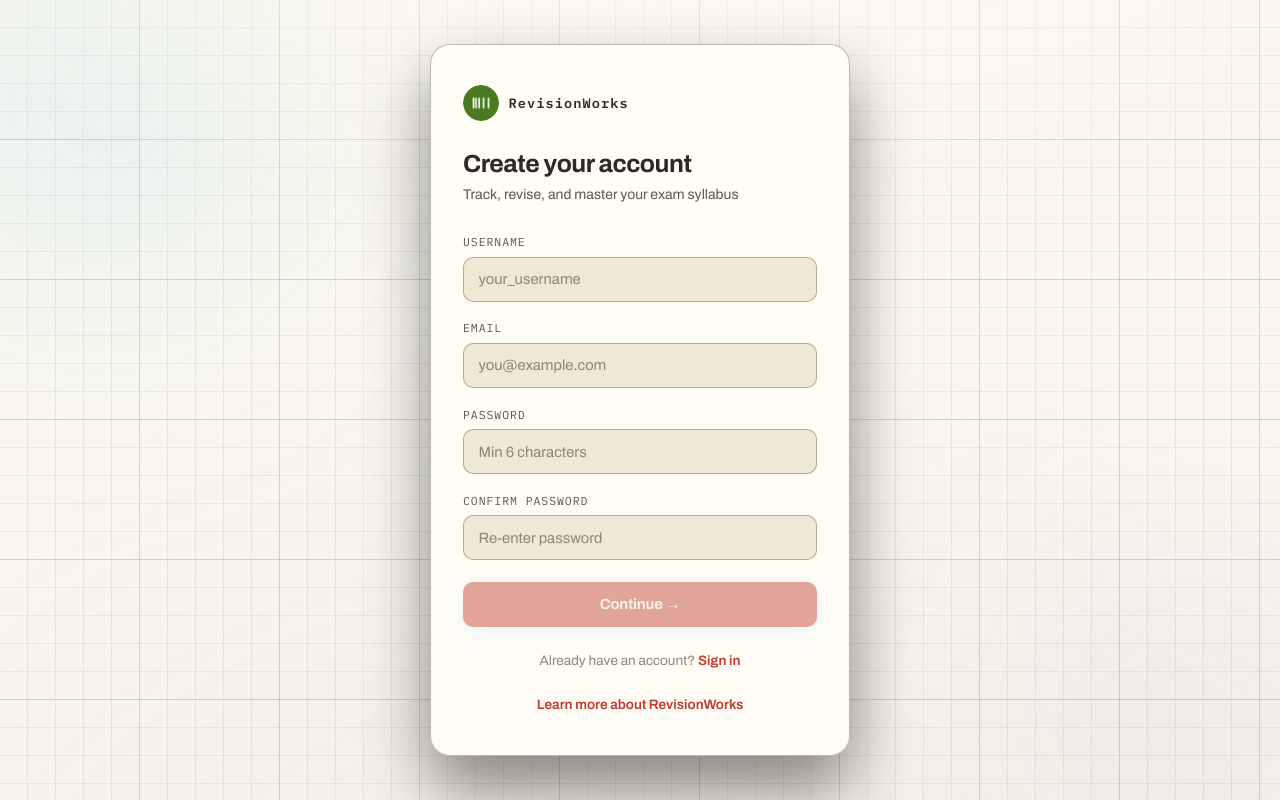
Test case: shows the check-your-email panel after successful registration
The width and height of the screenshot is (1280, 800).
Type "newuser" into the field labelled "Username" at (640, 279), box [463,257,817,302]
Type "newuser@example.com" into the field labelled "Email" at (640, 365), box [463,343,817,388]
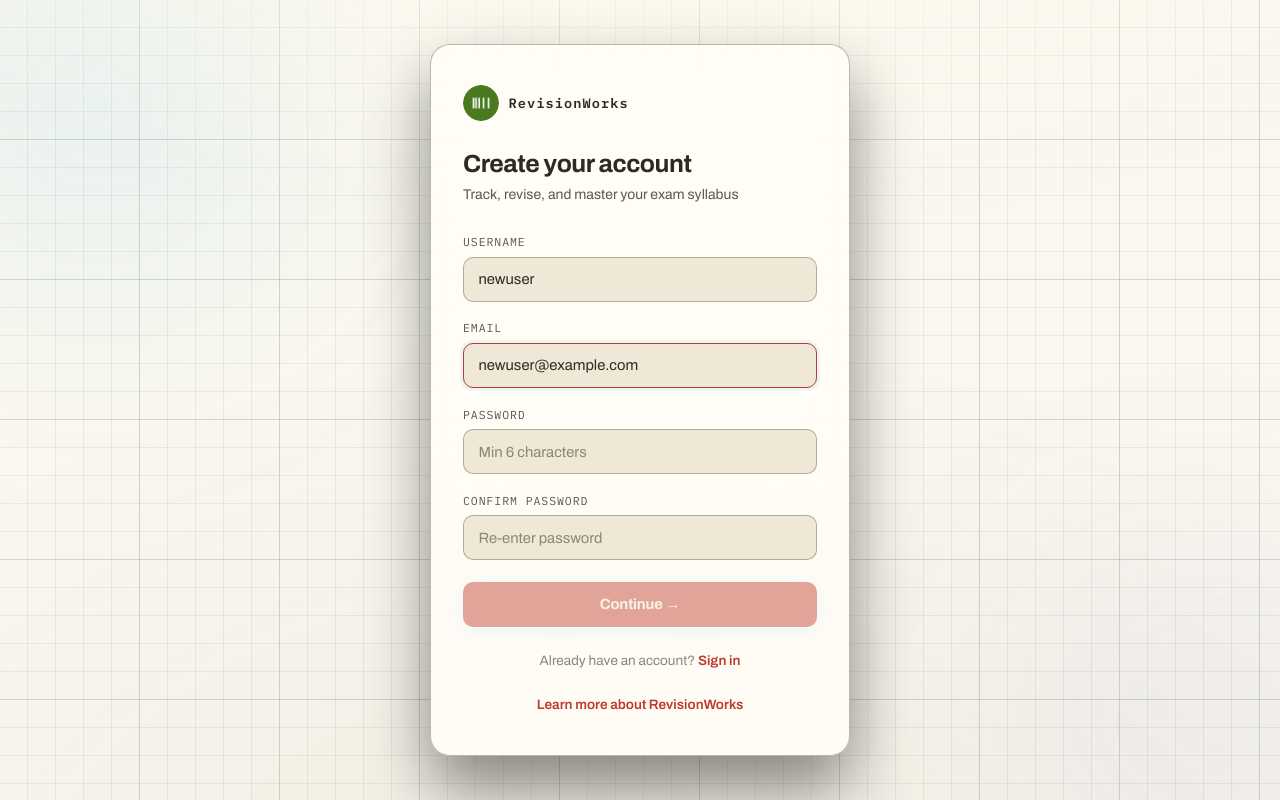
Type "password123" into the password field labelled "Password" at (640, 452), box [463,429,817,474]
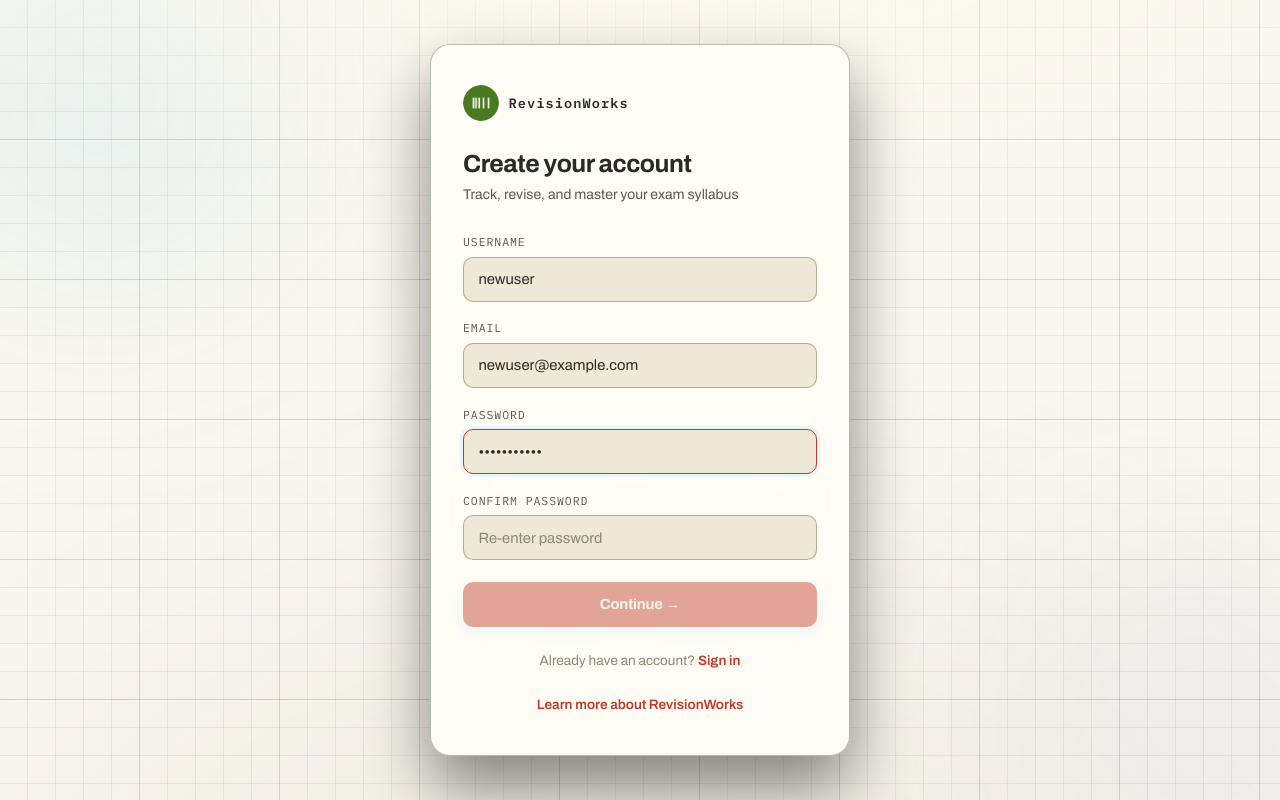
Type "password123" into the password field labelled "Confirm Password" at (640, 538), box [463,515,817,560]
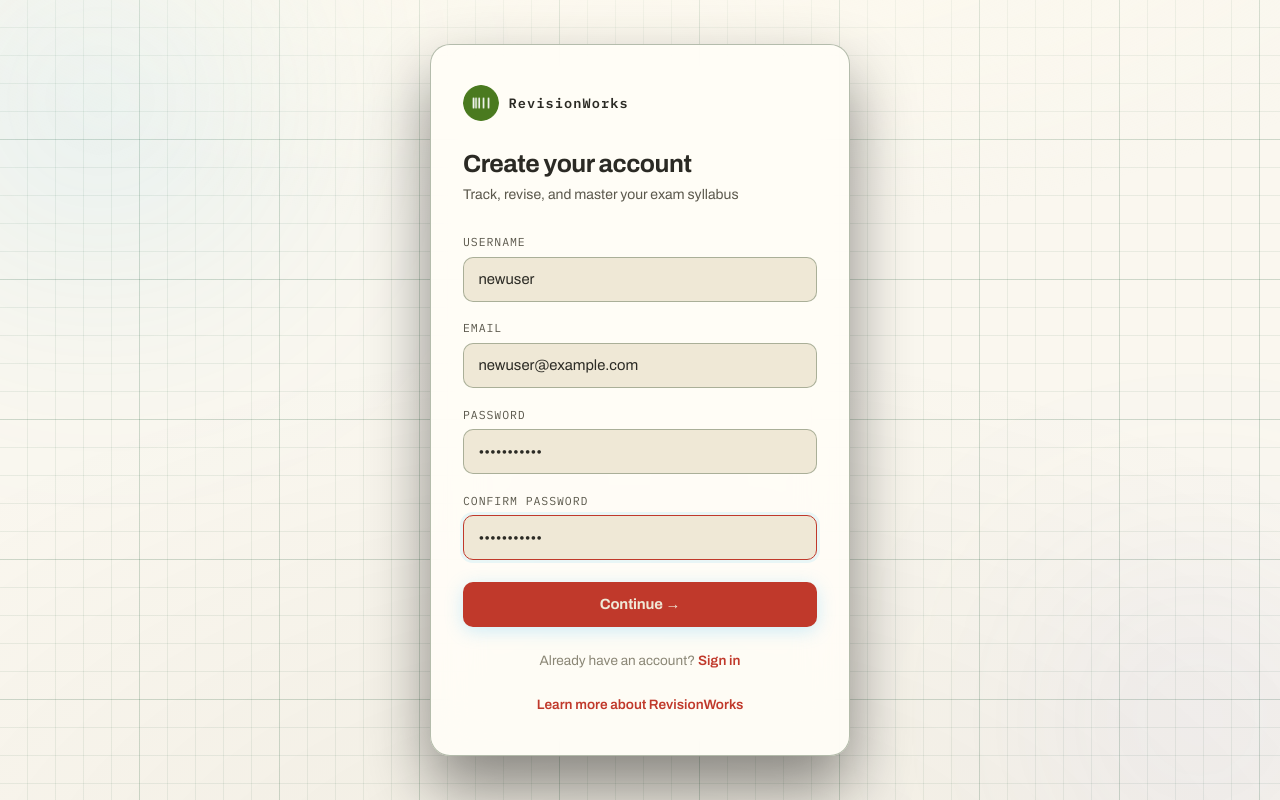
Click the button "Continue →" at (640, 604), box [463,582,817,626]
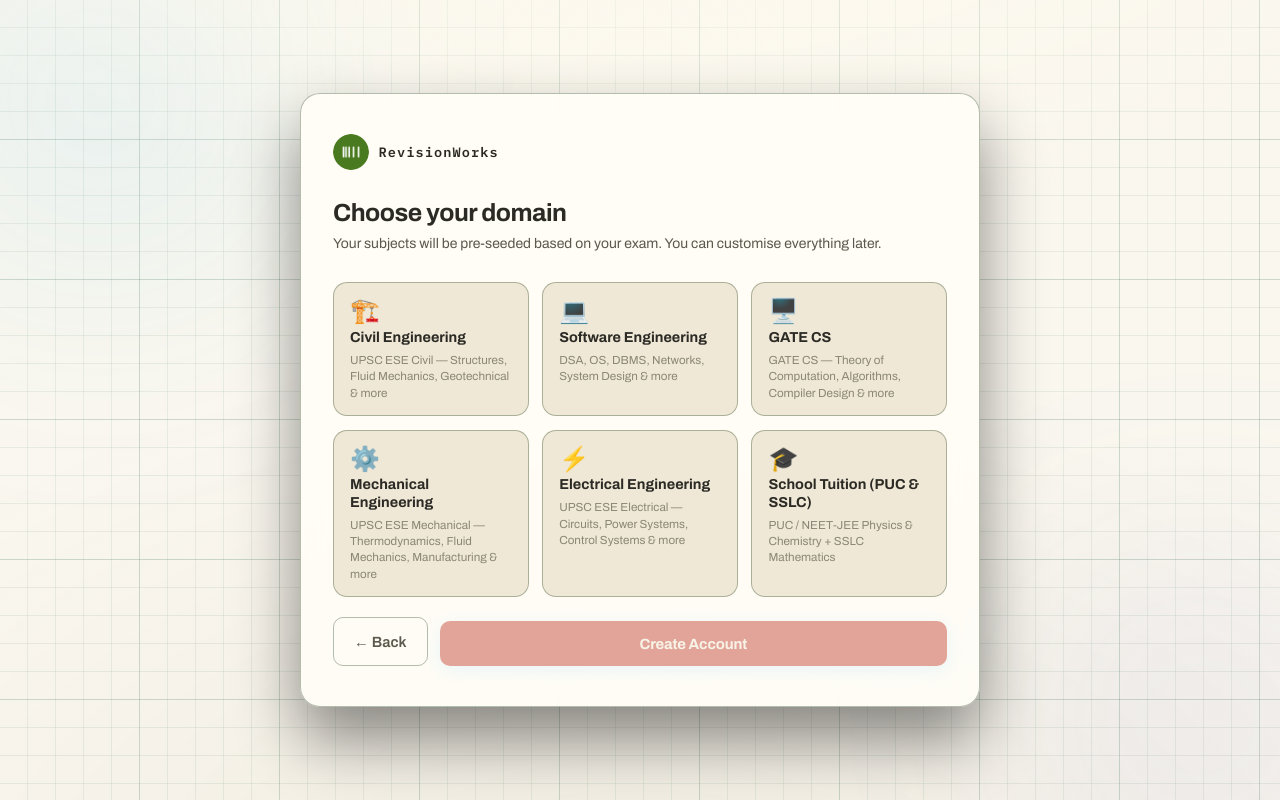
Click the text "Civil Engineering" at (408, 338), box [350,329,466,346]
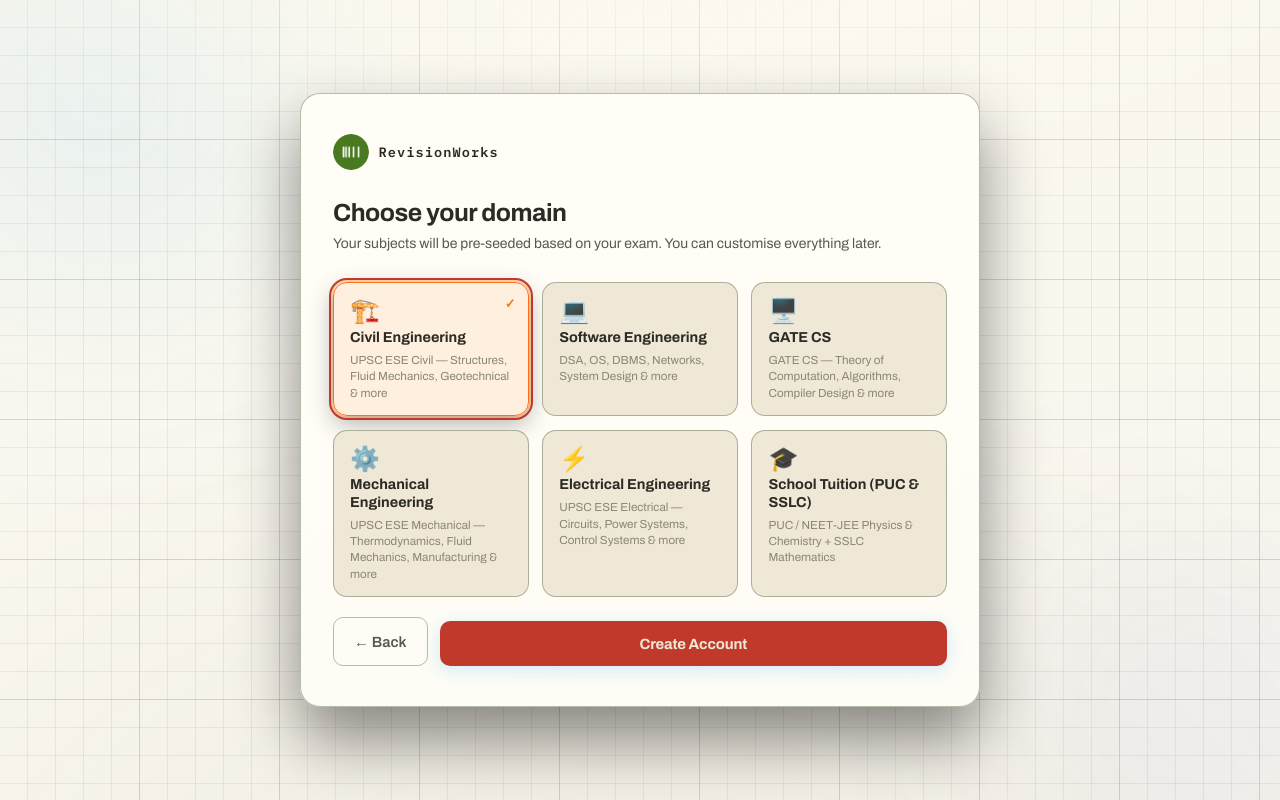
Click the button "Create Account" at (693, 644), box [440,621,947,666]
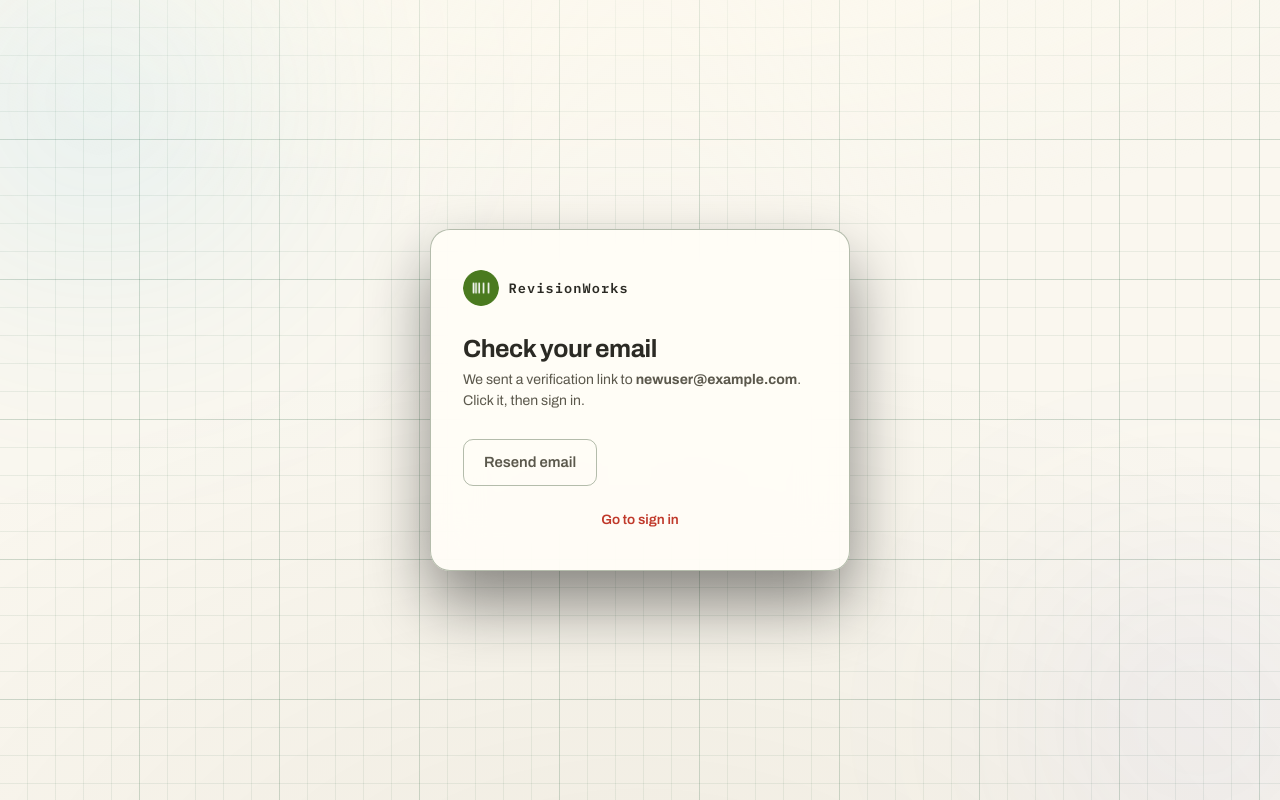
Result: the heading "Check your email" is shown at [463,335,657,362]
